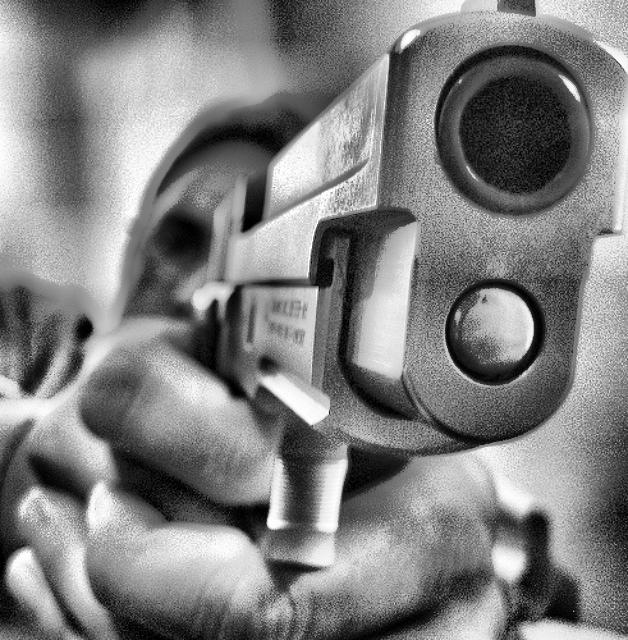pistol: (191, 1, 624, 574)
